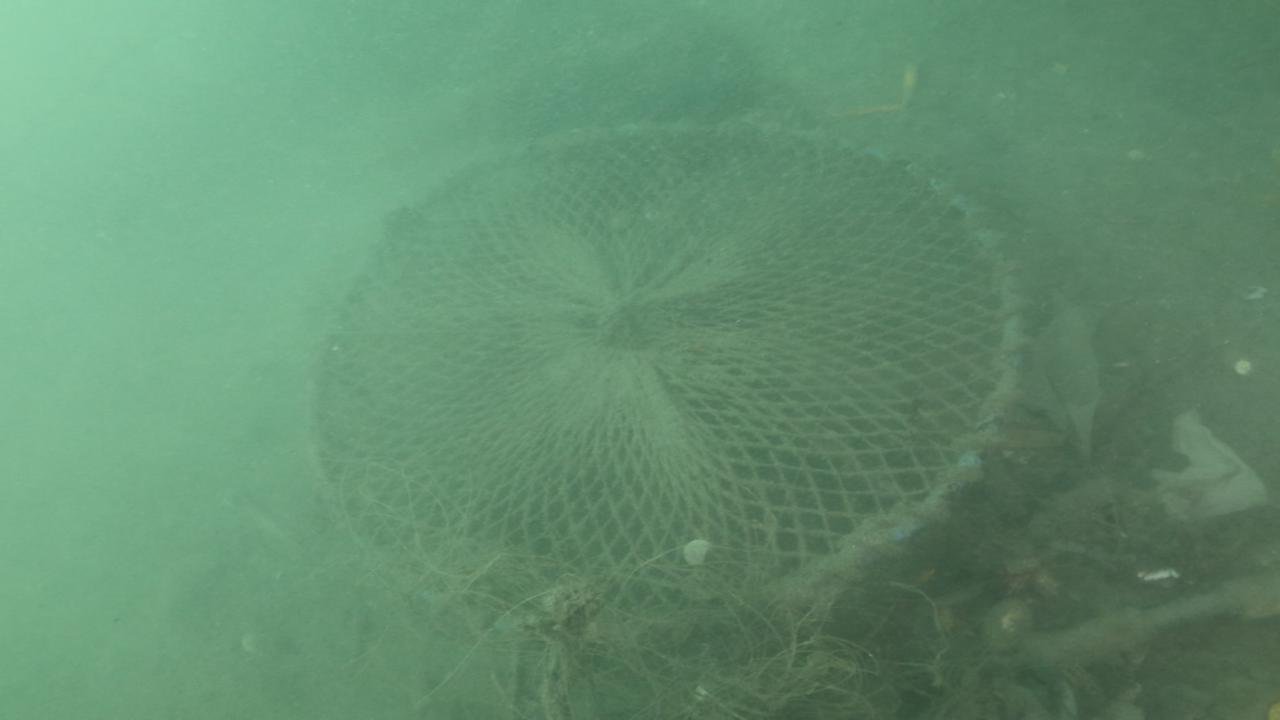circular fish trap: (294, 108, 1033, 639)
